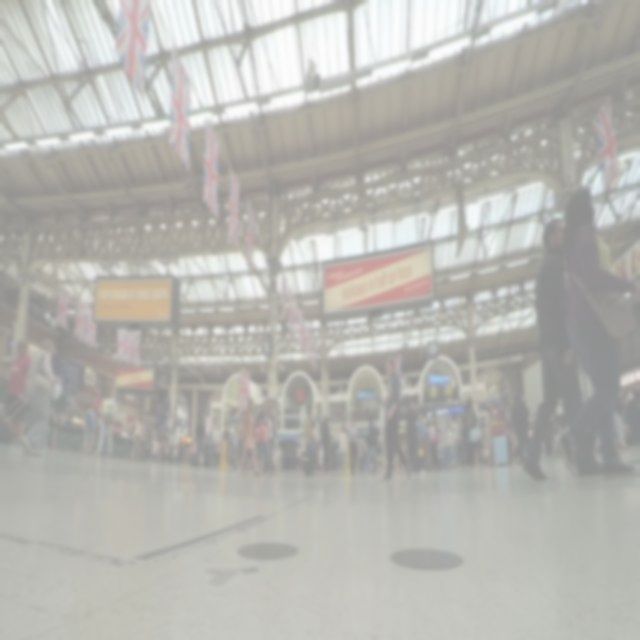pessoa: (554, 184, 640, 480), (522, 215, 610, 482), (446, 390, 534, 470), (144, 406, 246, 471), (20, 338, 64, 458), (382, 358, 412, 482), (2, 338, 33, 453), (296, 400, 338, 478), (356, 400, 384, 473), (94, 384, 119, 459), (240, 396, 262, 476), (612, 387, 639, 452), (254, 399, 276, 477), (403, 398, 421, 473), (544, 407, 568, 457), (263, 404, 279, 476), (424, 411, 442, 474), (414, 412, 428, 475), (129, 408, 145, 461), (346, 416, 359, 476), (94, 388, 105, 453), (46, 405, 60, 455), (84, 400, 96, 456), (337, 421, 348, 476), (49, 338, 61, 374), (252, 408, 260, 428), (253, 402, 259, 410)
